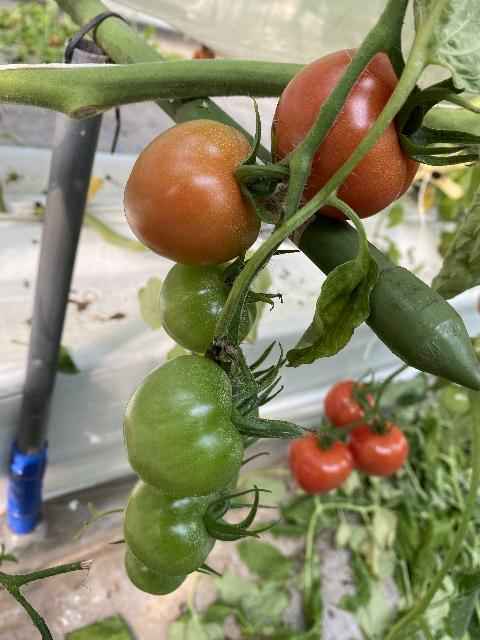l_fully_ripened: (270, 48, 425, 221)
l_green: (123, 354, 244, 497), (123, 478, 221, 575), (158, 261, 258, 354), (124, 549, 188, 595)
l_half_ripened: (123, 119, 267, 266)
